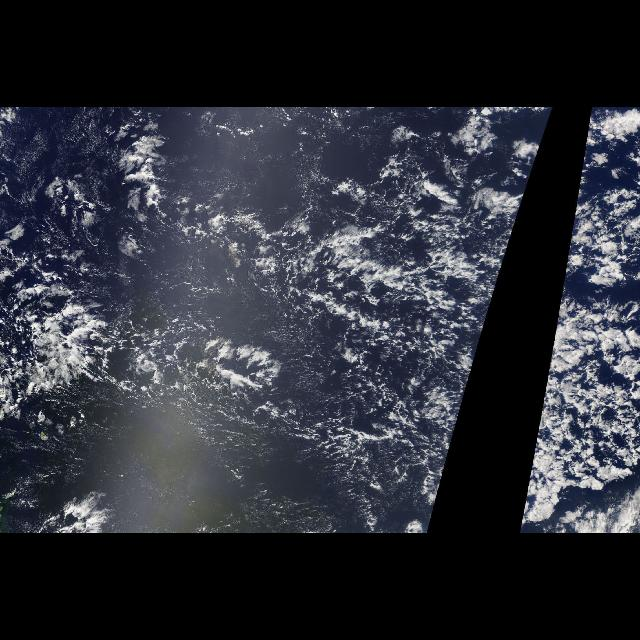Gravel: (213, 218, 484, 450)
Sugar: (80, 399, 394, 533)
